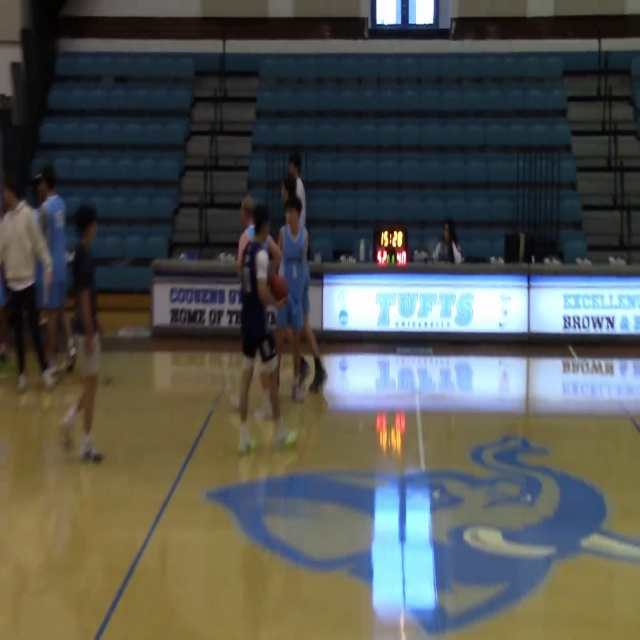Basketball: (268, 274, 288, 303)
